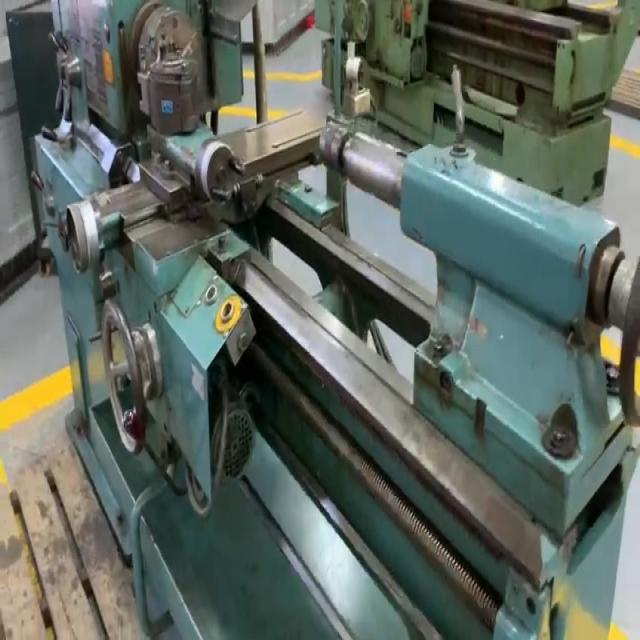tour parallele: (19, 0, 640, 638)
